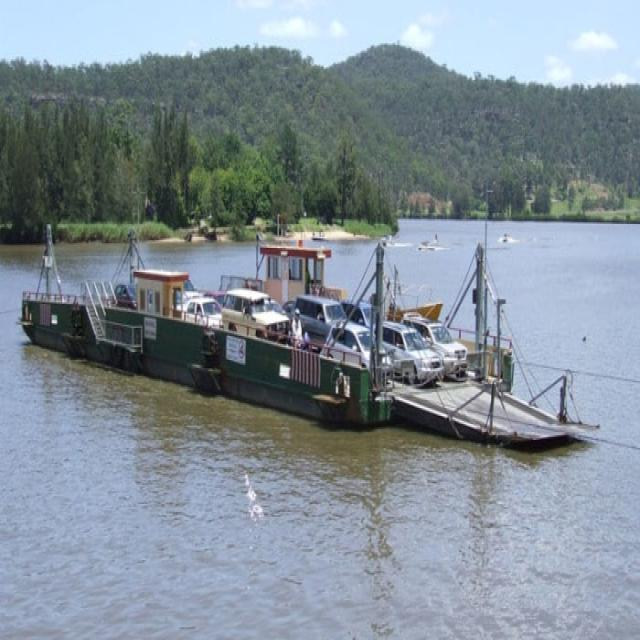cargoship: (16, 187, 517, 433)
